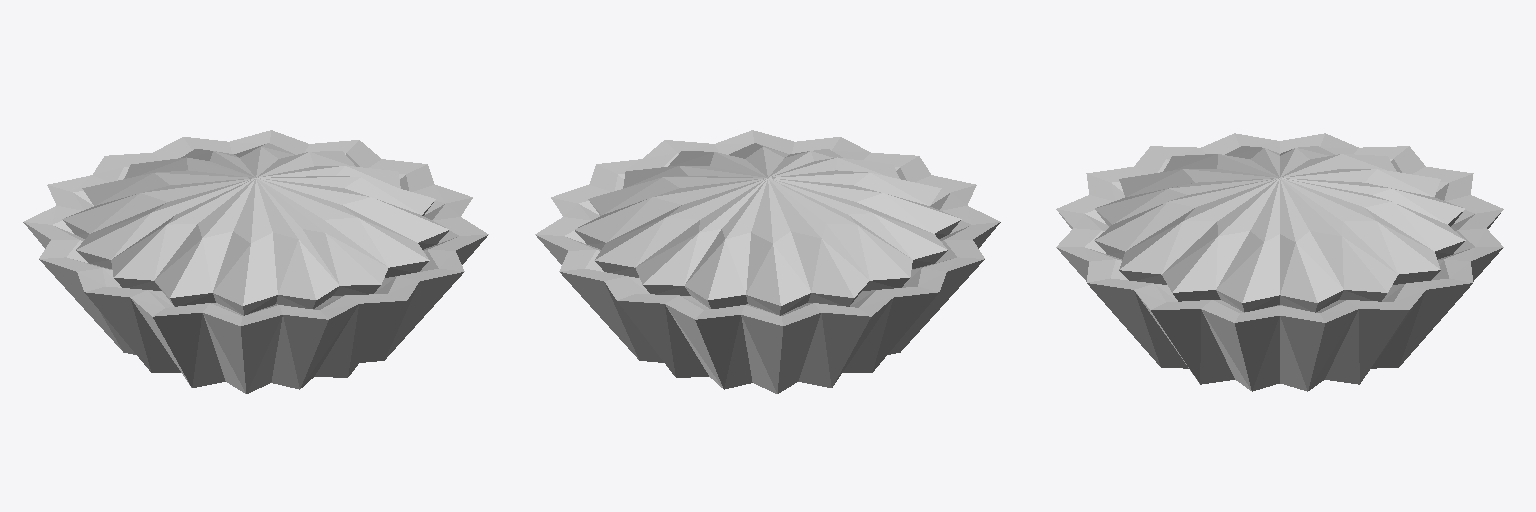
Rendered from peanutbuttercup.obj.
3 views of the same model, side by side, from view 1: azimuth 30°, elevation 25°; view 2: azimuth 150°, elevation 25°; view 3: azimuth 270°, elevation 25° (orthographic).
Visible parts, largest first — view 1: PeanutButterCup; view 2: PeanutButterCup; view 3: PeanutButterCup.
Boxes of the visible parts, box(x1,y1,x2,y2) form: PeanutButterCup: box(23, 130, 488, 393); PeanutButterCup: box(535, 130, 1000, 393); PeanutButterCup: box(1056, 133, 1503, 391).
Bounding box in the file's own units: 0.7452 × 0.2858 × 0.7434.